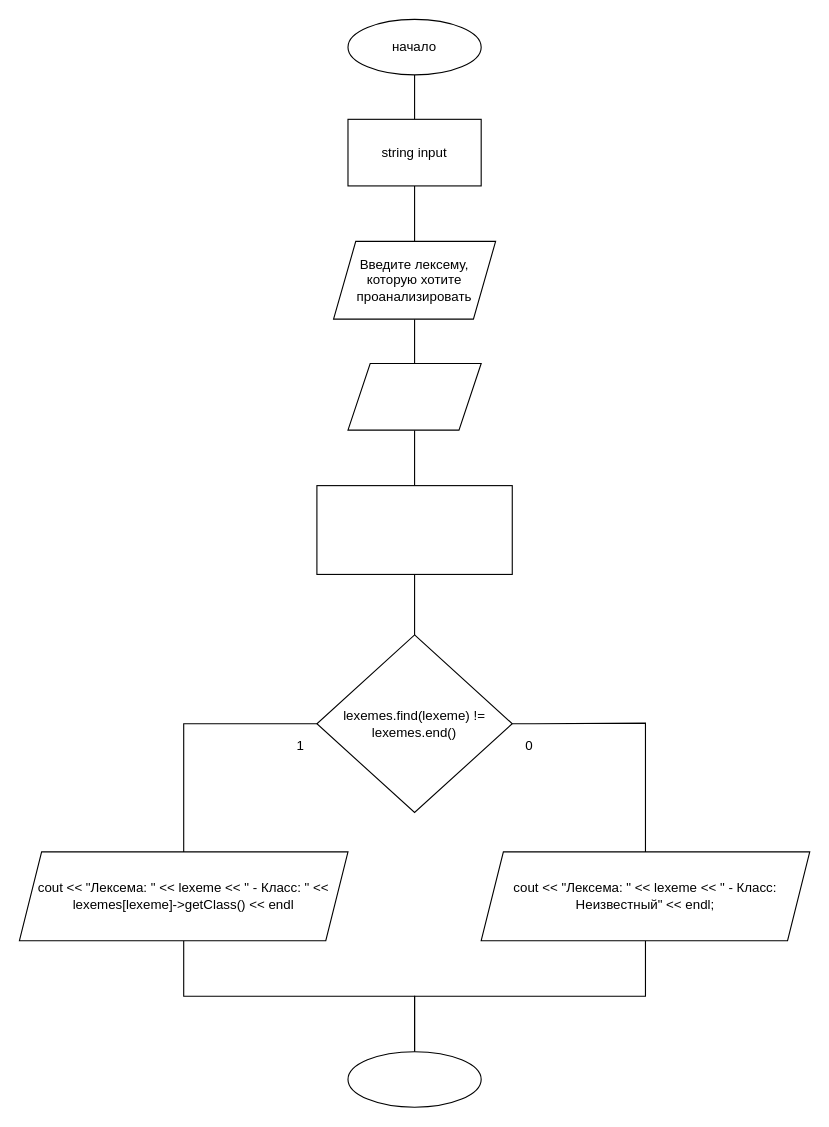
Image size: 829x1127. Some labels were removed from this diagram. Each missing label, with the centre of its shape:
"analyzer.analyzeLexeme(input);" belongs at pixel 414 529.
"cin >> input" belongs at pixel 414 396.
"конец" belongs at pixel 414 1079.
